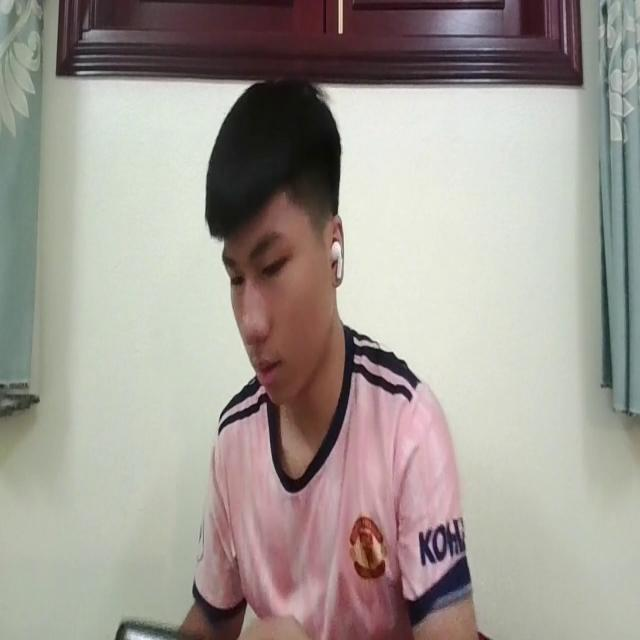student: (170, 72, 478, 640)
